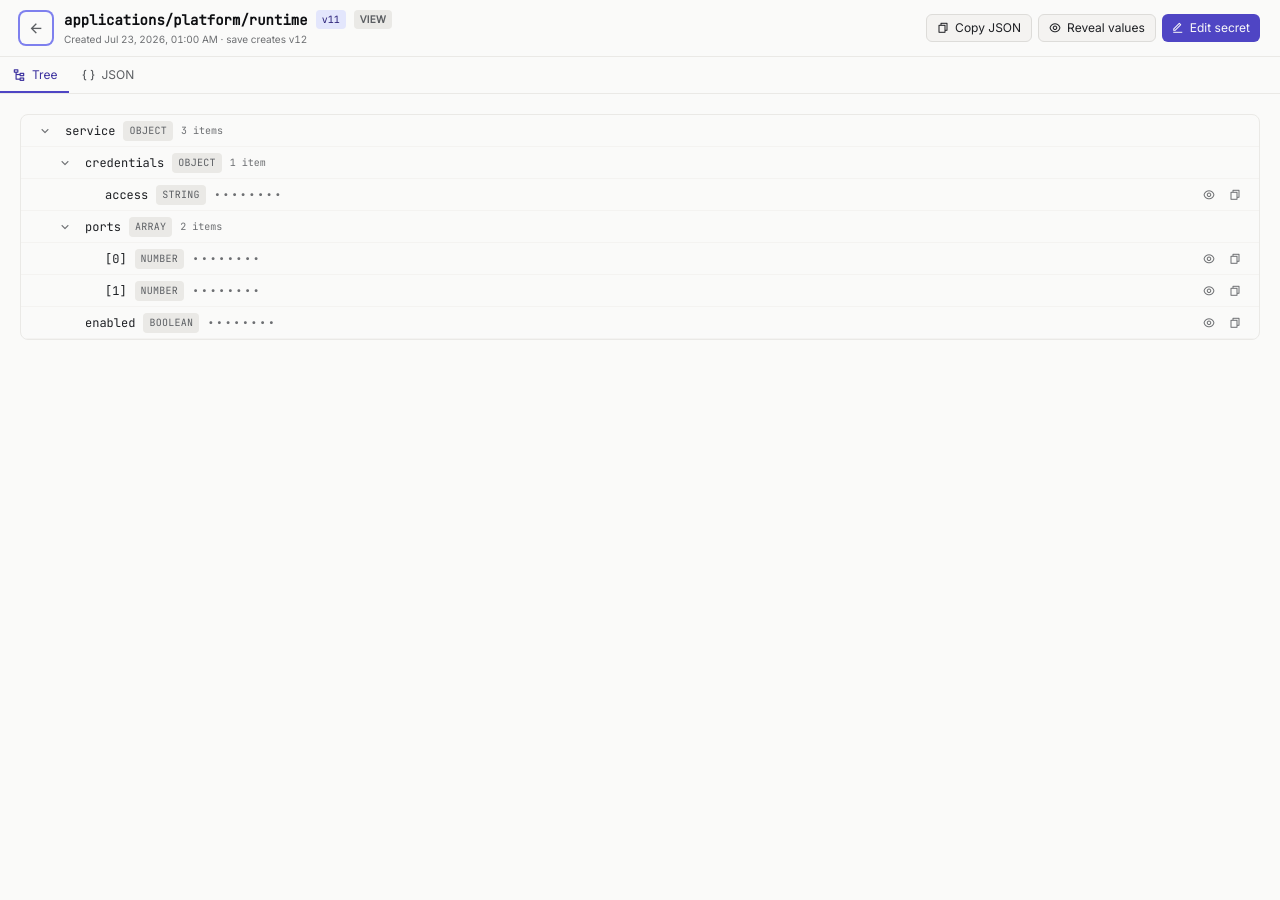
Test case: SecretWorkspace › reads nested data as a masked tree or redacted JSON
The image size is (1280, 900).
Expected: the text "alpha-value" is not shown
Expected: the text "••••••••" next to "string" is shown, left=214, top=186, right=283, bottom=202
Click the button named "Reveal service/credentials/access": (1209, 194) left=1197, top=182, right=1221, bottom=206
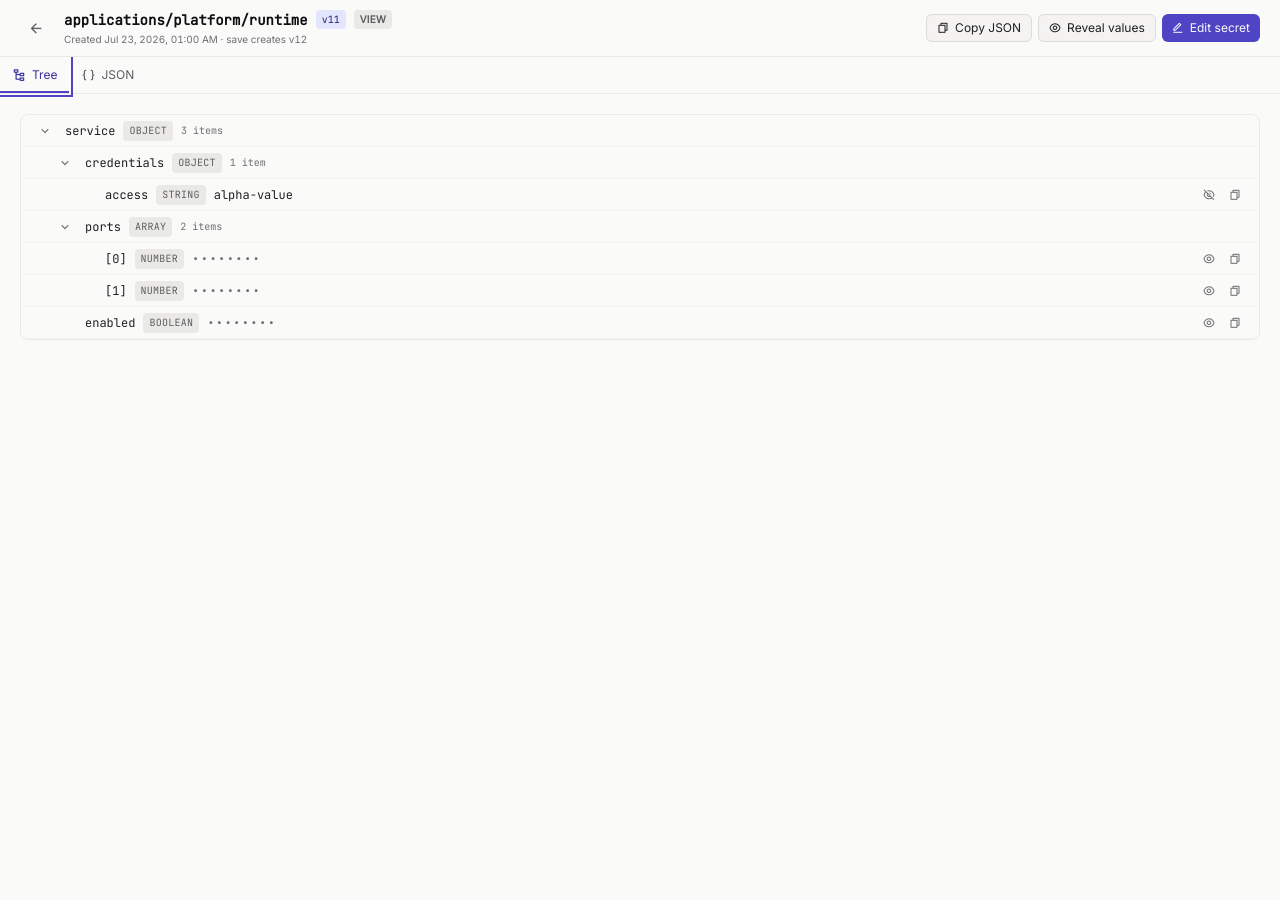
Expected: the text "alpha-value" is shown, left=214, top=186, right=293, bottom=202
Press Arrowright
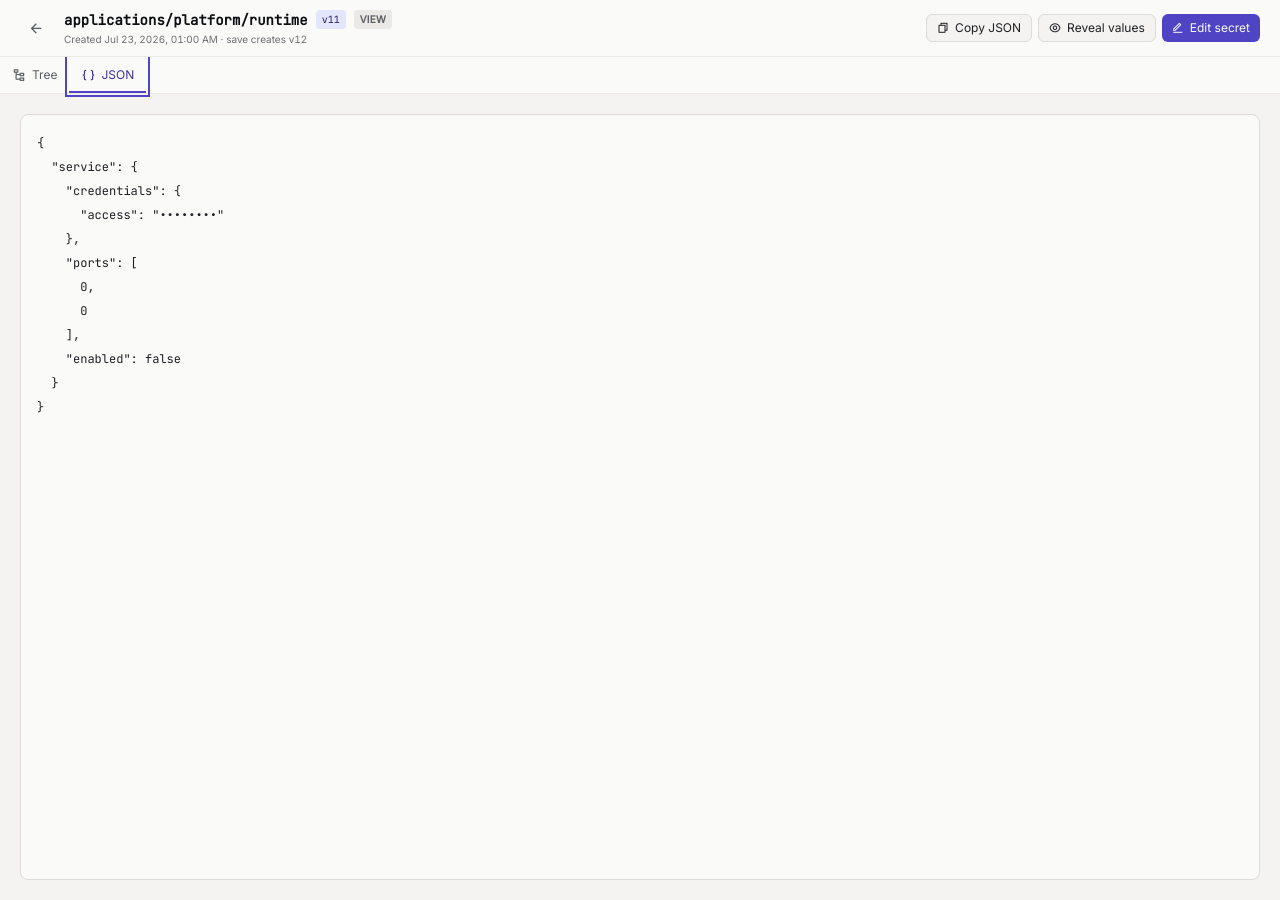
Expected: the text "\"access\": \"••••••••\"" is shown, left=37, top=135, right=224, bottom=415
Click the button "Reveal values": (1097, 28) left=1038, top=14, right=1156, bottom=42
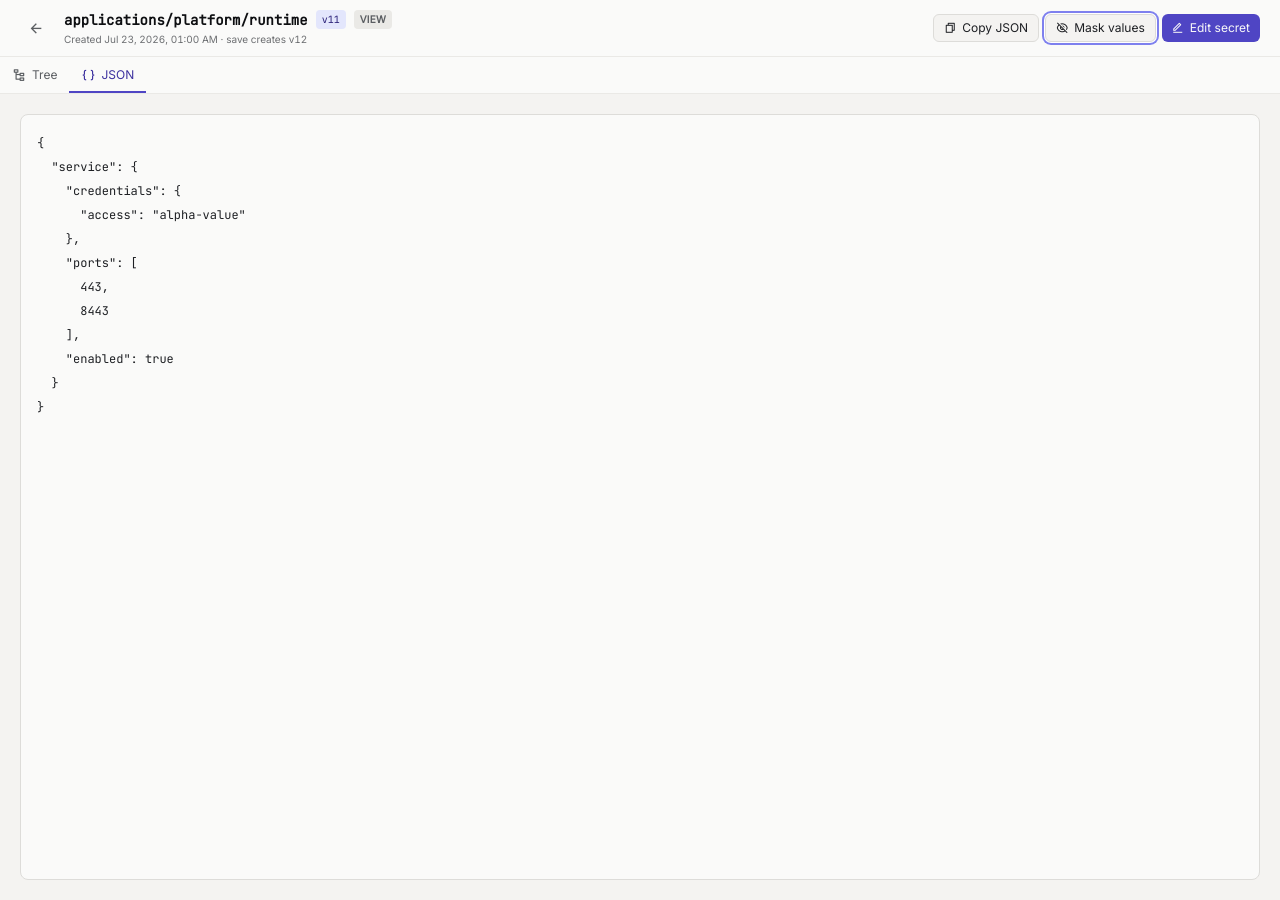
Expected: the text "\"access\": \"alpha-value\"" is shown, left=37, top=135, right=246, bottom=415
